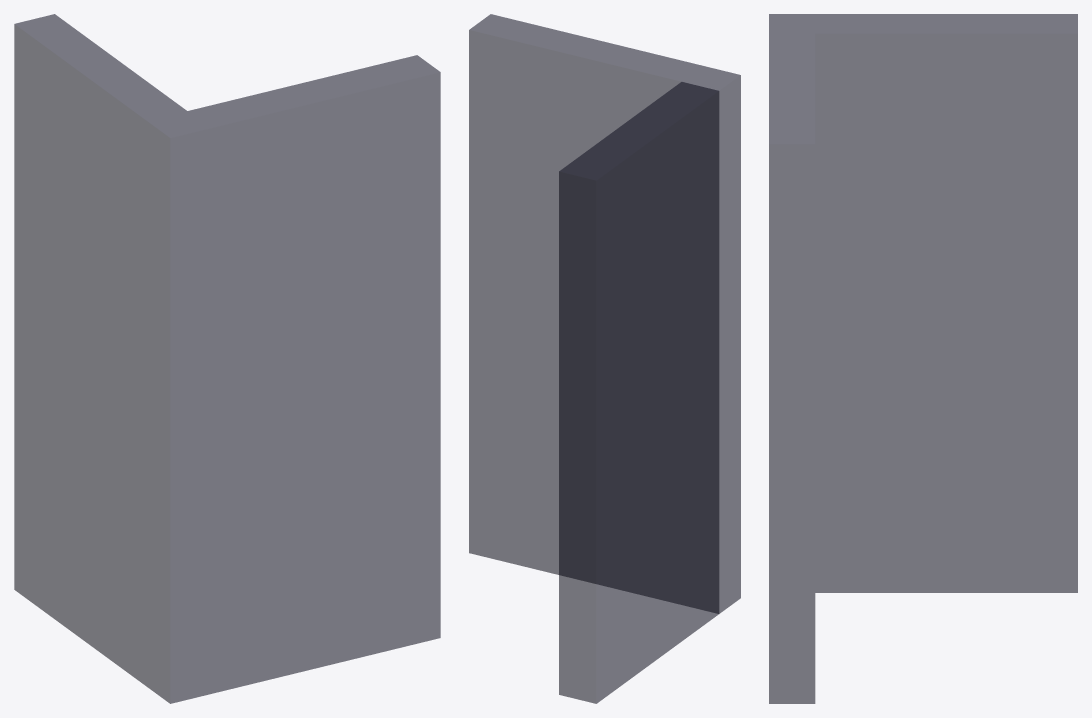
File: GlassCorner.glb
The picture shows the model from 3 angles, left to right: view 1: azimuth 30°, elevation 25°; view 2: azimuth 150°, elevation 25°; view 3: azimuth 270°, elevation 25°; orthographic projection. The views are drawn at different scales.
Visible parts, largest first — view 1: wall_plain_corner_glass; view 2: wall_plain_corner_glass; view 3: wall_plain_corner_glass.
Boxes of the visible parts, box(x1,y1,x2,y2) form: wall_plain_corner_glass: box(14, 14, 440, 703); wall_plain_corner_glass: box(469, 14, 740, 703); wall_plain_corner_glass: box(769, 14, 1077, 703).
Size of what is drawn, in the model's own units: 2 by 4 by 2.
Materials: 1 (1 with a texture image).
